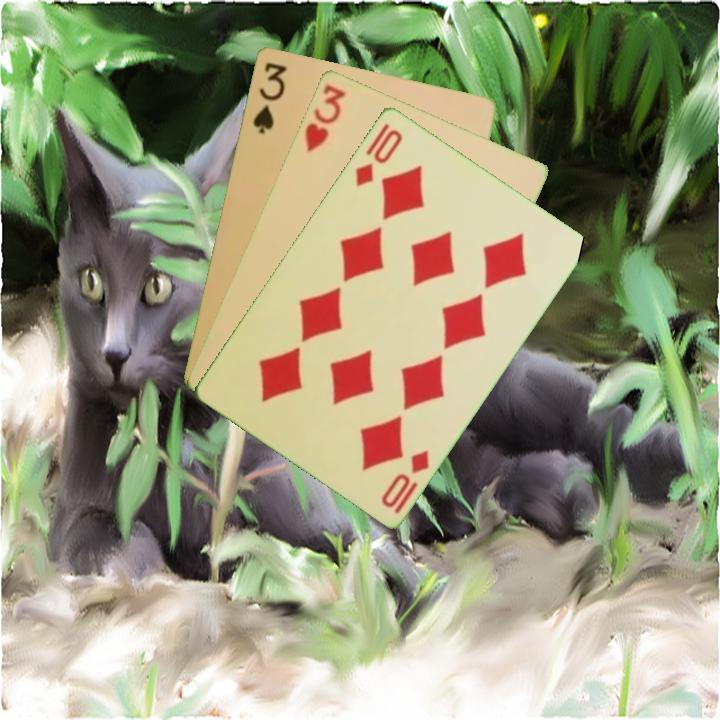10d: (377, 445, 432, 510), (351, 125, 406, 189)
3h: (301, 80, 349, 155)
3s: (249, 58, 289, 136)
